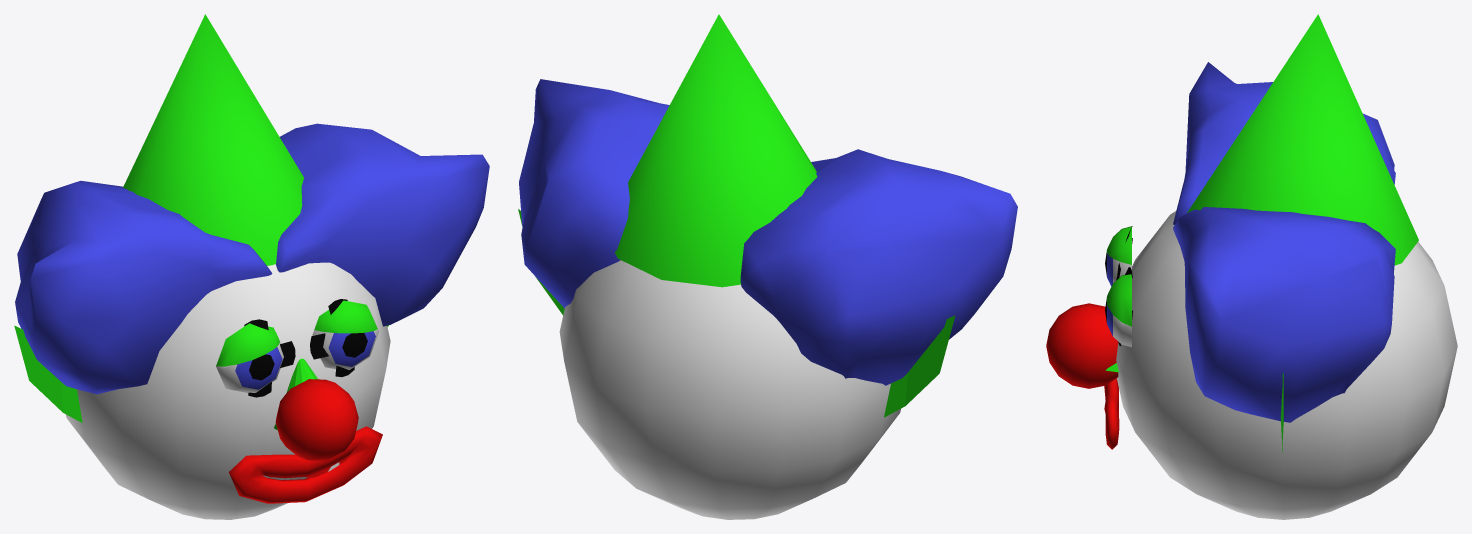
File: clown.gltf
3 views of the same model, side by side, from view 1: azimuth 30°, elevation 25°; view 2: azimuth 150°, elevation 25°; view 3: azimuth 270°, elevation 25° (orthographic). The views are drawn at different scales.
Visible parts, largest first — view 1: Hat, Head, Sphere, Mouth, Nose, Plane, Eye; view 2: Hat, Head, Plane; view 3: Hat, Head, Nose, Sphere, Mouth.
Part boxes in pixels (<box>): Hat: <box>15,14,489,394</box>; Head: <box>66,262,390,519</box>; Sphere: <box>216,300,378,392</box>; Mouth: <box>228,426,382,503</box>; Nose: <box>275,379,358,460</box>; Plane: <box>14,325,388,422</box>; Eye: <box>244,299,354,397</box>; Hat: <box>519,14,1017,385</box>; Head: <box>559,260,900,519</box>; Plane: <box>518,209,955,417</box>; Hat: <box>1173,14,1418,422</box>; Head: <box>1116,211,1457,519</box>; Nose: <box>1046,303,1118,388</box>; Sphere: <box>1105,226,1131,347</box>; Mouth: <box>1104,378,1119,449</box>.
Bounding box in the file's own units: 3.12 × 3.11 × 2.37.
